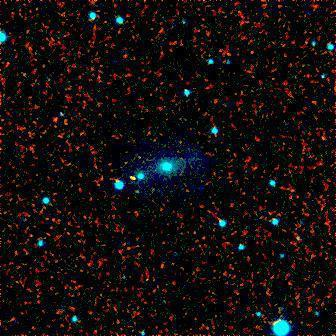star: (122, 166, 152, 196)
